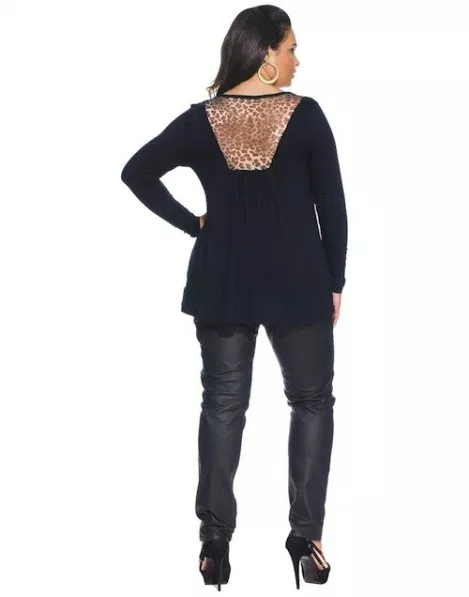Humano: (176, 2, 358, 590)
